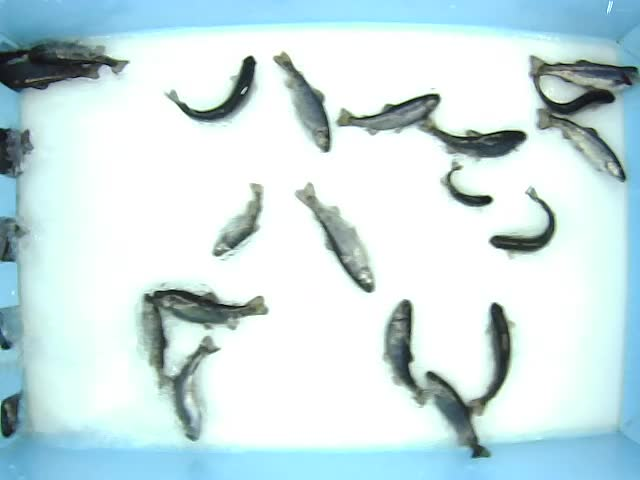fish: (293, 180, 378, 295), (535, 108, 627, 183), (164, 55, 258, 124), (271, 51, 332, 156), (424, 371, 492, 461), (465, 302, 518, 417), (415, 111, 528, 162), (169, 334, 222, 442), (381, 299, 431, 409), (150, 288, 271, 332), (489, 186, 558, 259), (334, 92, 441, 136), (528, 68, 616, 115), (526, 55, 633, 93), (212, 180, 264, 258), (138, 293, 174, 392), (439, 159, 494, 208)
